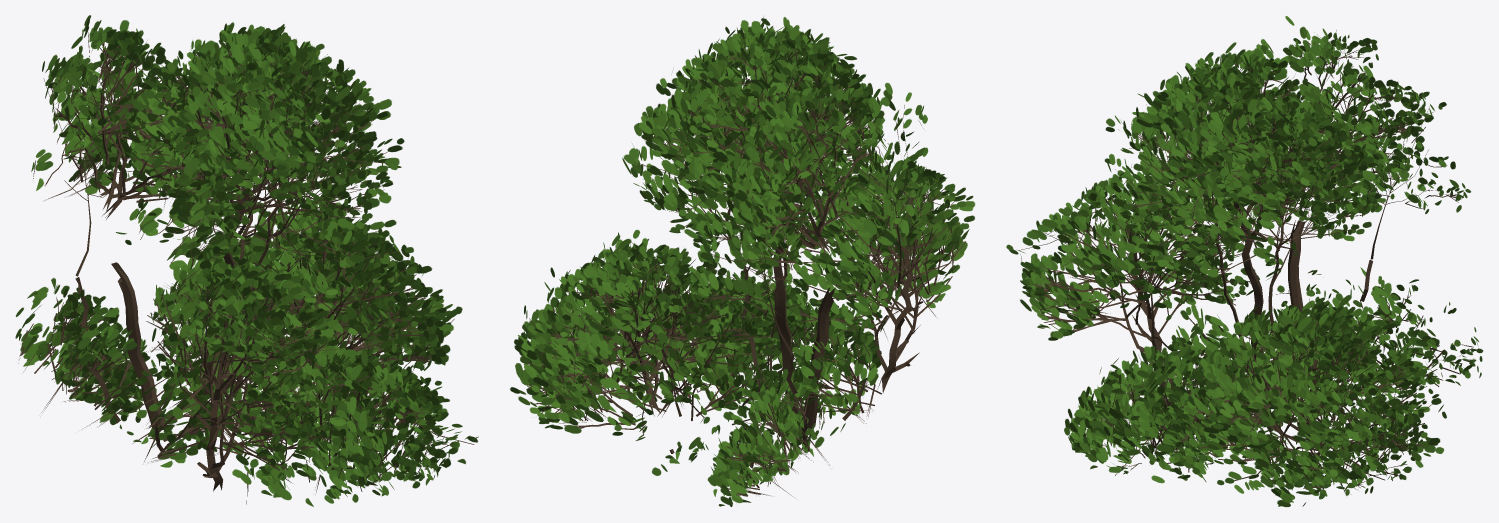
The picture shows the model from 3 angles, left to right: view 1: azimuth 30°, elevation 25°; view 2: azimuth 150°, elevation 25°; view 3: azimuth 270°, elevation 25°; orthographic projection. The views are drawn at different scales.
Parts seen in each view (by area): view 1: oak 01.001_trunk_Mat.001_0.363; view 2: oak 01.001_trunk_Mat.001_0.363; view 3: oak 01.001_trunk_Mat.001_0.363.
Part boxes in pixels (<box>): oak 01.001_trunk_Mat.001_0.363: <box>15,15,478,506</box>; oak 01.001_trunk_Mat.001_0.363: <box>510,17,975,506</box>; oak 01.001_trunk_Mat.001_0.363: <box>1006,16,1483,507</box>.
Size of the model in its own units: 3.07 by 3.49 by 3.97.
2 materials, 1 textured.
